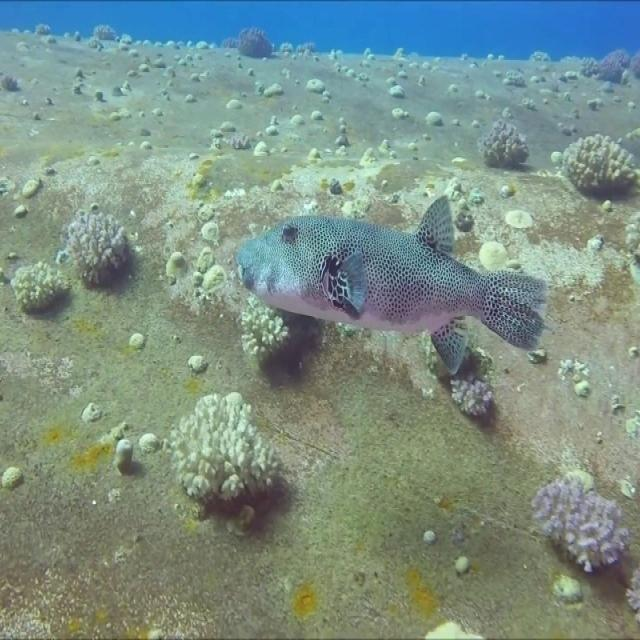fish: (232, 196, 550, 376)
reefs: (169, 394, 281, 497), (528, 477, 629, 573), (551, 135, 639, 191), (69, 210, 131, 286), (241, 298, 291, 362), (13, 262, 71, 309), (479, 122, 528, 164), (453, 376, 494, 420)
